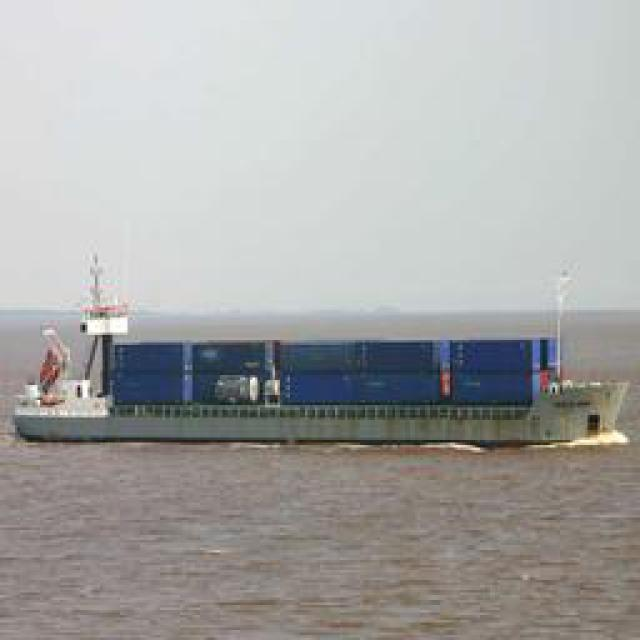Ship: (6, 236, 640, 460)
